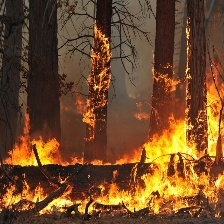fire: (132, 62, 224, 160), (2, 176, 223, 213), (69, 22, 121, 125), (6, 123, 109, 172)
